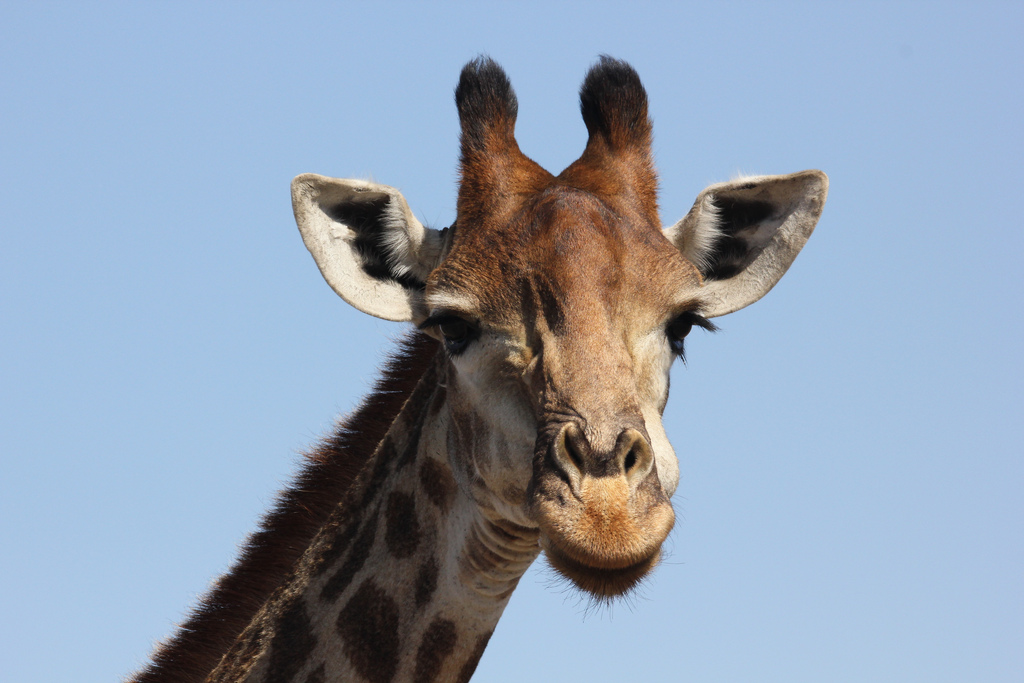giraffe: (209, 34, 840, 642)
